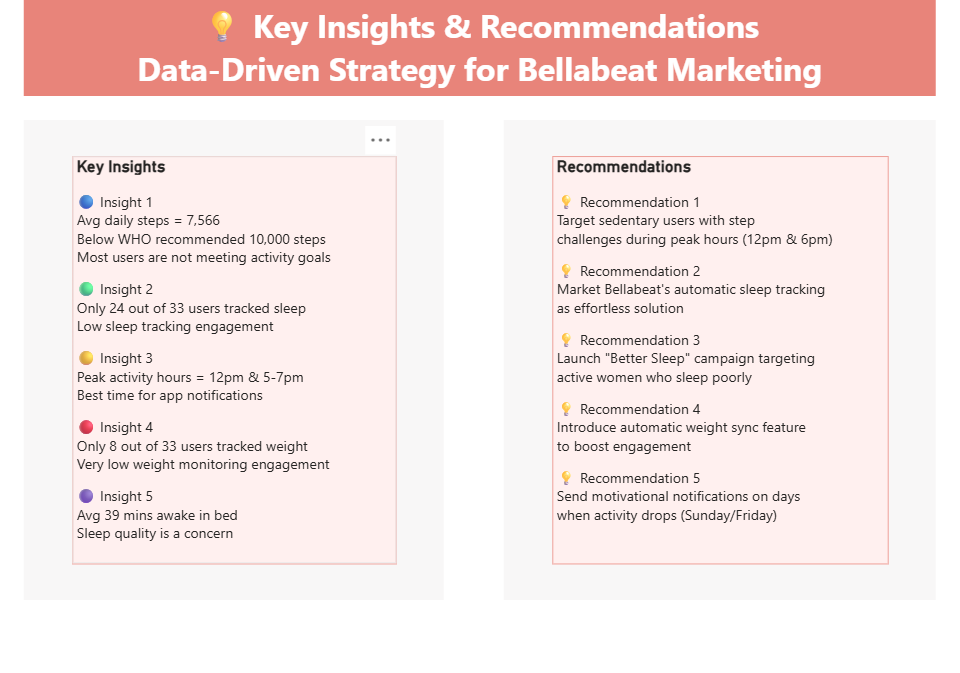

The page's visual inventory and layout, read from the dashboard file:
{"tool":"powerbi","page":{"name":"Insights &  Recommendations","canvas":[1280,900],"ordinal":2},"visuals":[{"type":"shape","box":[32,160,560,640],"z":0},{"type":"textbox","box":[32,0,1216,128],"z":1000},{"type":"textbox","title":"Key Insights","box":[96,208,432,544],"z":2000},{"type":"shape","box":[672,160,576,640],"z":3000},{"type":"textbox","title":"Recommendations","box":[736,208,448,544],"z":4000}]}

Visuals, with their boxes in screenshot pixels (x1, y1, x2, y2), scaled from the page's 1280x900 canvas onto the 960x673 screenshot:
shape: Rect(24, 120, 444, 598)
textbox: Rect(24, 0, 936, 96)
"Key Insights" textbox: Rect(72, 156, 396, 562)
shape: Rect(504, 120, 936, 598)
"Recommendations" textbox: Rect(552, 156, 888, 562)
